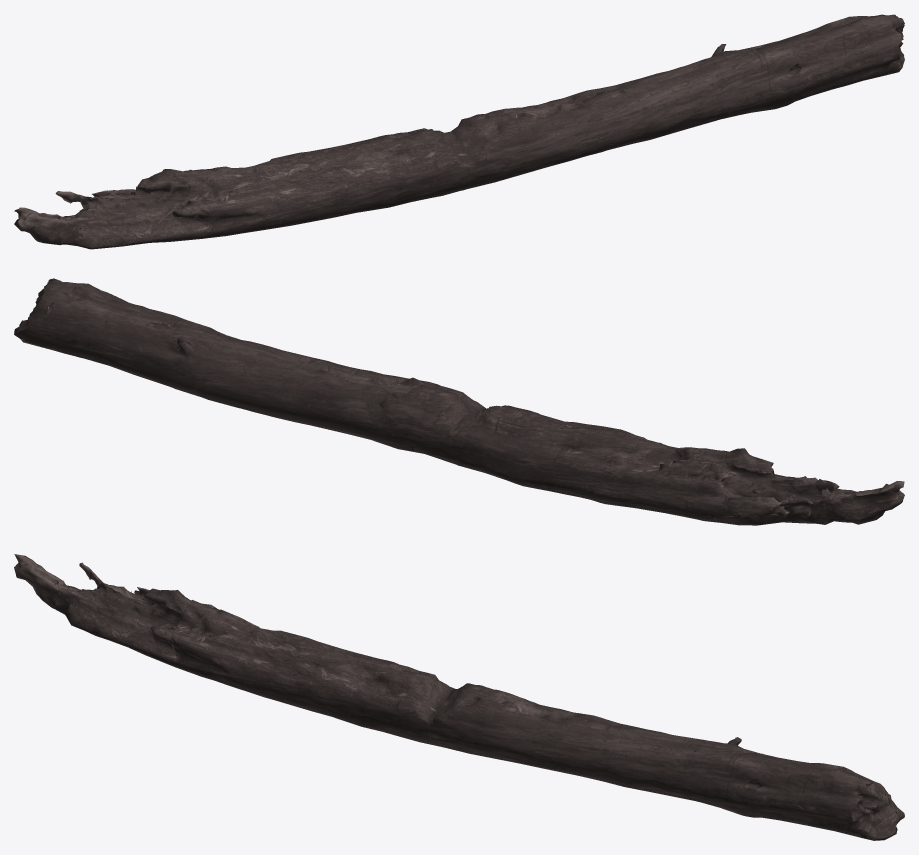
The model's file is ph_dead_trunk.gltf.
3 views of the same model, one above another, from view 1: azimuth 30°, elevation 25°; view 2: azimuth 150°, elevation 25°; view 3: azimuth 330°, elevation 25° (orthographic).
Visible parts, largest first — view 1: ph_dead_trunk; view 2: ph_dead_trunk; view 3: ph_dead_trunk.
Part boxes in pixels (box(x1,y1,x2,y2)): ph_dead_trunk: box(14, 14, 904, 249); ph_dead_trunk: box(14, 278, 904, 525); ph_dead_trunk: box(14, 554, 904, 840).
Size of the model in its own units: 3.05 by 0.2864 by 0.2759.
Materials: 1 (1 with a texture image).
